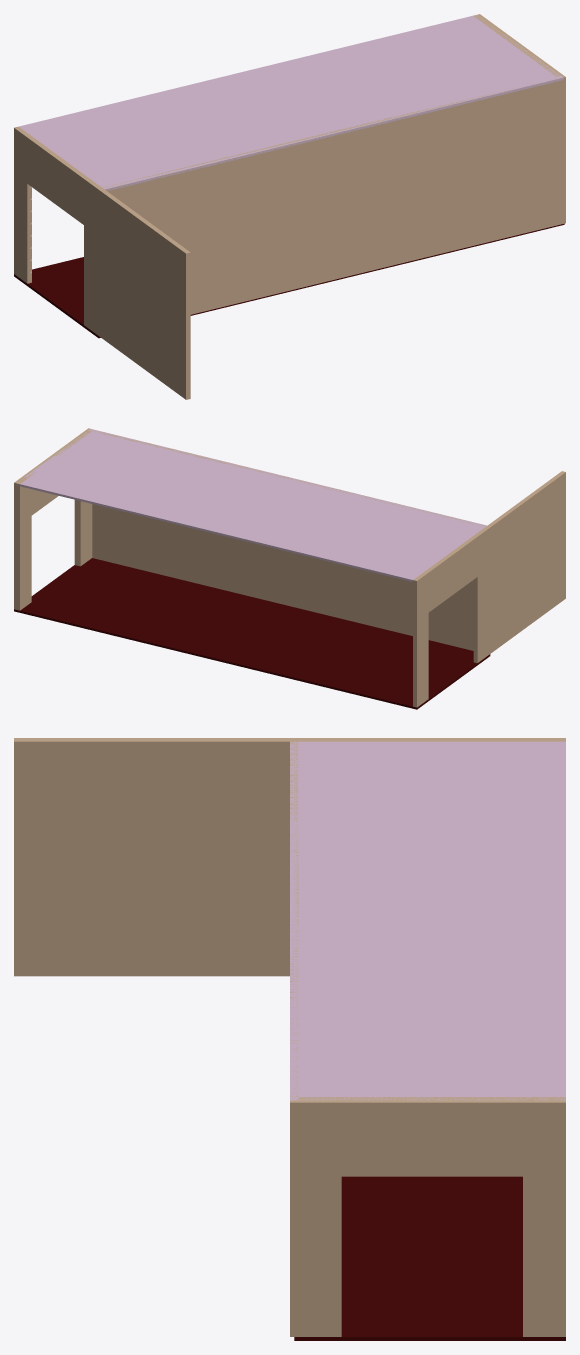
The model's file is Hall00.gltf.
3 renders of one model, top to bottom at view 1: azimuth 30°, elevation 25°; view 2: azimuth 150°, elevation 25°; view 3: azimuth 270°, elevation 25°, orthographic. The views are drawn at different scales.
Visible parts, largest first — view 1: wall2-north, roof, wall3-back, floor, Wall4-front; view 2: roof, floor, wall2-north, wall3-back, Wall4-front; view 3: roof, wall3-back, Wall4-front, floor, wall2-north.
Boxes of the visible parts, box(x1,y1,x2,y2) form: wall2-north: box(102, 75, 565, 314); roof: box(19, 14, 563, 191); wall3-back: box(14, 126, 190, 399); floor: box(14, 223, 564, 338); Wall4-front: box(473, 14, 562, 76); roof: box(16, 429, 486, 581); floor: box(14, 558, 490, 709); wall2-north: box(86, 428, 486, 650); wall3-back: box(413, 471, 565, 707); Wall4-front: box(14, 430, 92, 610); roof: box(290, 741, 565, 1100); wall3-back: box(14, 738, 565, 976); Wall4-front: box(298, 1097, 565, 1336); floor: box(294, 1176, 565, 1340); wall2-north: box(290, 741, 298, 1336).
Bounding box in the file's own units: 200 × 61 × 128.
